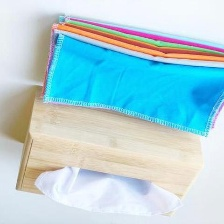tissue: (27, 160, 189, 224)
